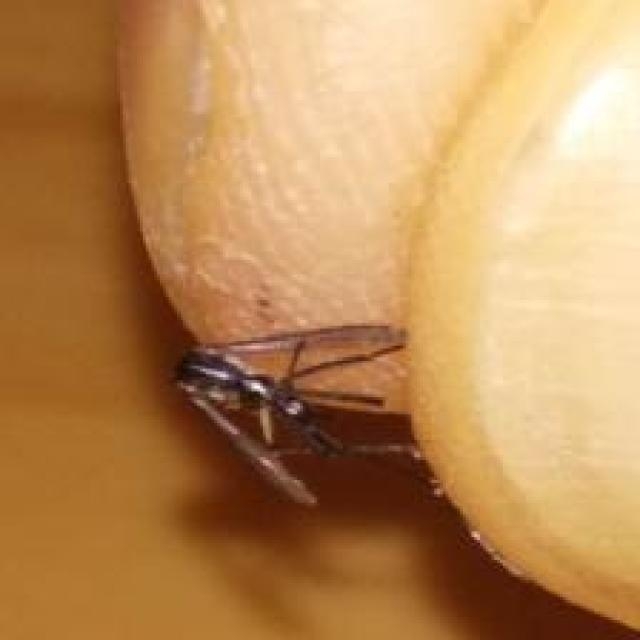Aedes albopictus: (172, 320, 437, 509)
